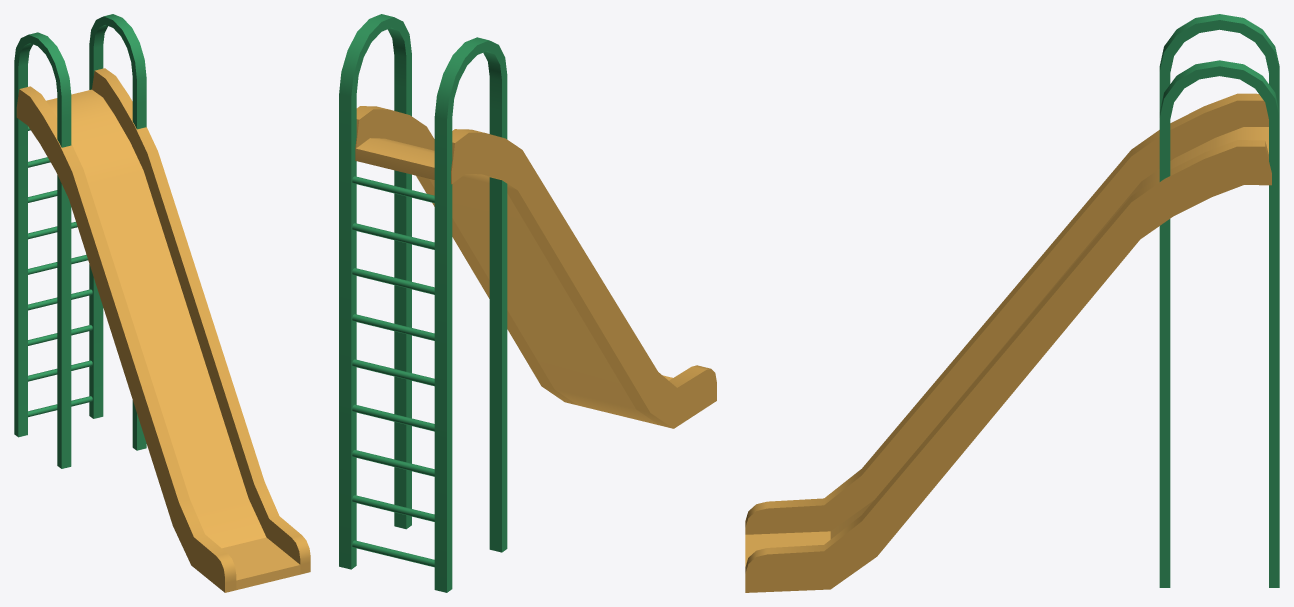
Rendered from Slide_06.fbx.
3 views of the same model, side by side, from view 1: azimuth 30°, elevation 25°; view 2: azimuth 150°, elevation 25°; view 3: azimuth 270°, elevation 25° (orthographic). The views are drawn at different scales.
Parts seen in each view (by area): view 1: Slide_06; view 2: Slide_06; view 3: Slide_06.
Part boxes in pixels (<box>): Slide_06: <box>14,14,310,592</box>; Slide_06: <box>339,14,716,592</box>; Slide_06: <box>745,14,1279,592</box>.
Bounding box in the file's own units: 0.5661 × 2.63 × 2.42.
